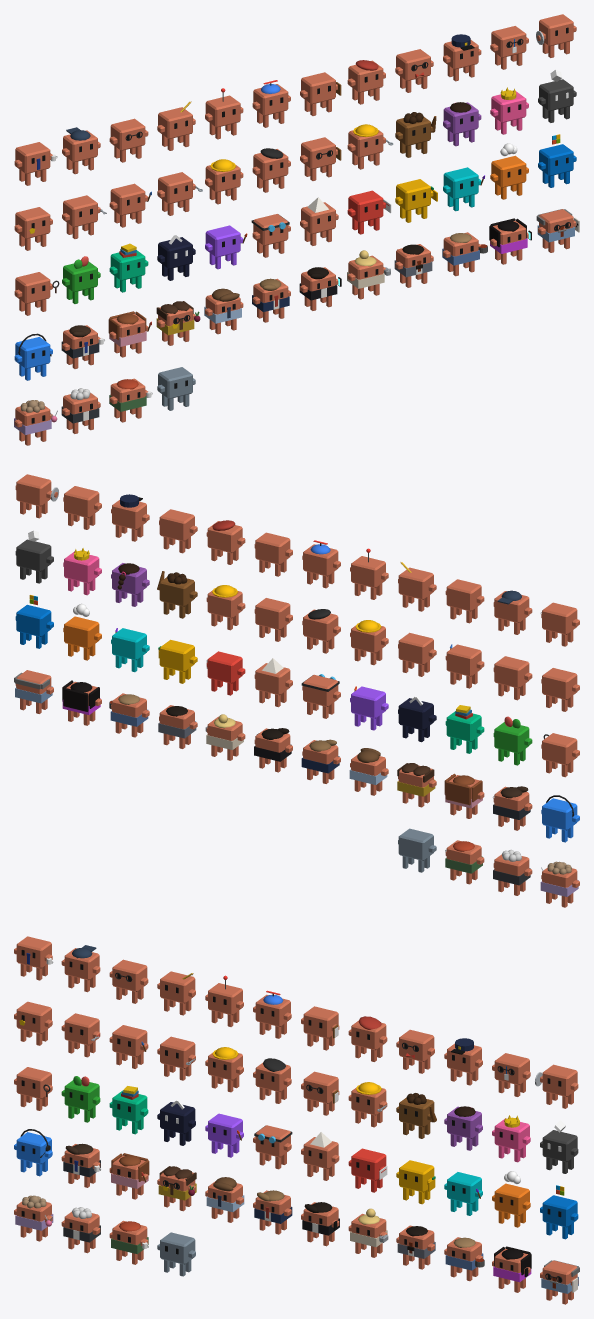
Rendered from cast.glb.
3 renders of one model, top to bottom at view 1: azimuth 30°, elevation 25°; view 2: azimuth 150°, elevation 25°; view 3: azimuth 330°, elevation 25°, orthographic.
Visible parts, largest first — view 1: gmail__body, security-audit__body, cloudflare-developer-platform__body, frontend-design__body, canva__body, figma__body, web__body, generic__body, google-drive__body, microsoft-365__body, clangd-lsp__body, security-guidance__body (+27 smaller); view 2: generic__body, gmail__body, frontend-design__body, clangd-lsp__body, claude-security__body, microsoft-365__body, reader__body, claude__body, code-simplifier__body, google-drive__body, memory__body, productivity__body (+26 smaller); view 3: microsoft-365__body, claude-security__body, cloudflare-developer-platform__body, code-simplifier__body, unity__body, tasks__body, generic__body, frontend-design__body, security-audit__body, editor__body, gmail__body, security-guidance__body (+32 smaller).
Part boxes in pixels (<box>): gmail__body: <box>348,190,383,222</box>; security-audit__body: <box>15,272,50,303</box>; cloudflare-developer-platform__body: <box>491,155,526,187</box>; frontend-design__body: <box>110,183,145,215</box>; canva__body: <box>443,167,478,199</box>; figma__body: <box>205,225,240,257</box>; web__body: <box>205,95,240,127</box>; generic__body: <box>158,367,192,398</box>; google-drive__body: <box>396,179,430,210</box>; microsoft-365__body: <box>539,144,573,176</box>; clangd-lsp__body: <box>158,172,192,204</box>; security-guidance__body: <box>15,207,50,238</box>; generic__body: <box>398,828,433,860</box>; gmail__body: <box>207,651,242,683</box>; frontend-design__body: <box>446,644,481,676</box>; clangd-lsp__body: <box>398,632,433,664</box>; claude-security__body: <box>16,474,51,506</box>; microsoft-365__body: <box>16,604,51,636</box>; reader__body: <box>446,579,481,611</box>; claude__body: <box>542,602,577,634</box>; code-simplifier__body: <box>494,656,529,688</box>; google-drive__body: <box>159,639,194,671</box>; memory__body: <box>159,509,194,541</box>; productivity__body: <box>255,598,290,629</box>; microsoft-365__body: <box>542,1195,577,1227</box>; claude-security__body: <box>542,1064,577,1096</box>; cloudflare-developer-platform__body: <box>494,1183,529,1215</box>; code-simplifier__body: <box>64,1013,99,1045</box>; unity__body: <box>542,1130,577,1162</box>; tasks__body: <box>303,1006,338,1038</box>; generic__body: <box>160,1232,195,1264</box>; frontend-design__body: <box>112,1025,147,1057</box>; security-audit__body: <box>16,1067,51,1098</box>; editor__body: <box>160,971,195,1003</box>; gmail__body: <box>351,1148,386,1180</box>; security-guidance__body: <box>16,1001,51,1033</box>.
Size of the model in its own units: 13.52 by 7.06 by 0.7988.
